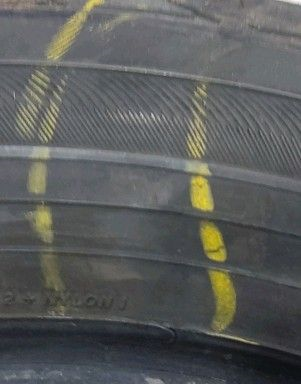CBU: (74, 99, 178, 287)
